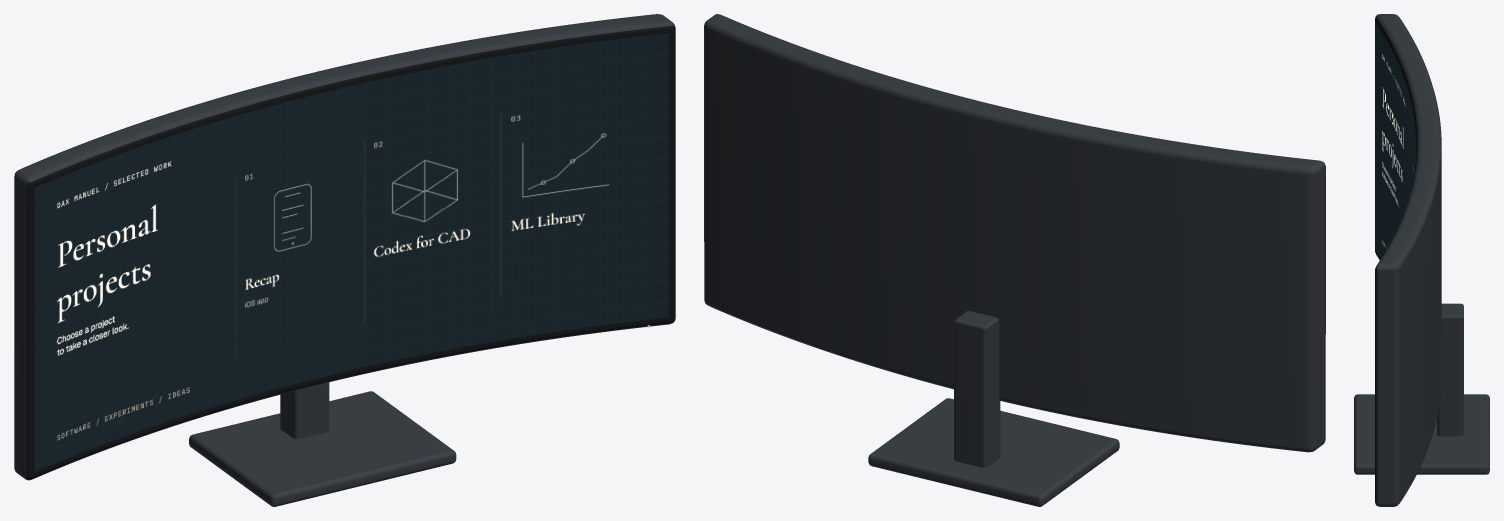
The model's file is monitor-source.glb.
3 renders of one model, left to right at view 1: azimuth 30°, elevation 25°; view 2: azimuth 150°, elevation 25°; view 3: azimuth 270°, elevation 25°, orthographic. The views are drawn at different scales.
Parts seen in each view (by area): view 1: Screen_Ultrawide_Projects, Reorder_Projects_Personal_Ultrawide_Housing, Reorder_Projects_Personal_Ultrawide_StandBase, Reorder_Projects_Personal_Ultrawide_StandStem; view 2: Reorder_Projects_Personal_Ultrawide_Housing, Reorder_Projects_Personal_Ultrawide_StandBase, Reorder_Projects_Personal_Ultrawide_StandStem; view 3: Reorder_Projects_Personal_Ultrawide_Housing, Screen_Ultrawide_Projects, Reorder_Projects_Personal_Ultrawide_StandBase, Reorder_Projects_Personal_Ultrawide_StandStem.
Part boxes in pixels (bbox=[...]): Screen_Ultrawide_Projects: bbox=[35, 33, 668, 471]; Reorder_Projects_Personal_Ultrawide_Housing: bbox=[14, 14, 675, 480]; Reorder_Projects_Personal_Ultrawide_StandBase: bbox=[189, 391, 456, 506]; Reorder_Projects_Personal_Ultrawide_StandStem: bbox=[280, 382, 329, 439]; Reorder_Projects_Personal_Ultrawide_Housing: bbox=[704, 14, 1325, 452]; Reorder_Projects_Personal_Ultrawide_StandBase: bbox=[868, 398, 1119, 506]; Reorder_Projects_Personal_Ultrawide_StandStem: bbox=[954, 310, 1000, 467]; Reorder_Projects_Personal_Ultrawide_Housing: bbox=[1375, 14, 1441, 506]; Screen_Ultrawide_Projects: bbox=[1375, 23, 1415, 258]; Reorder_Projects_Personal_Ultrawide_StandBase: bbox=[1354, 394, 1489, 474]; Reorder_Projects_Personal_Ultrawide_StandStem: bbox=[1437, 303, 1463, 436].
Size of the model in its own units: 0.842 by 0.4645 by 0.19.
Materials: 5 (3 with a texture image).
